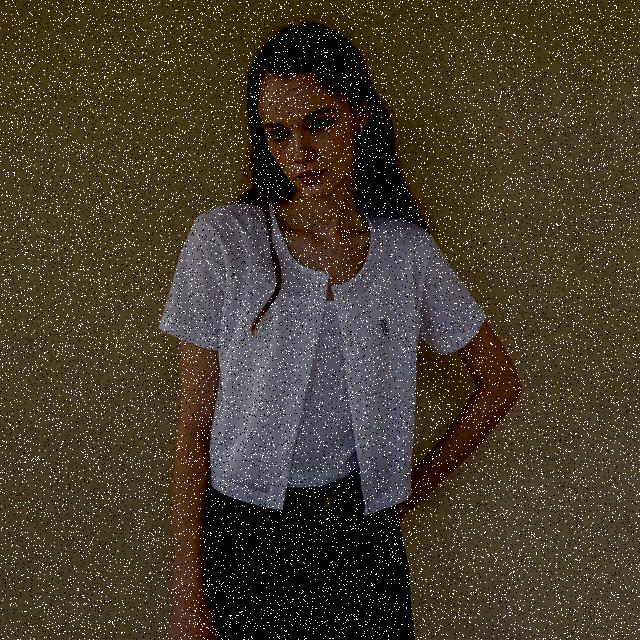dress: (159, 171, 490, 514)
